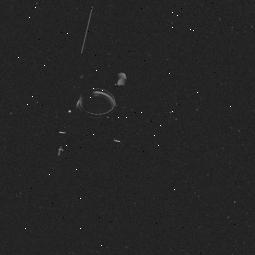proba_3_csc: (46, 4, 148, 164)
